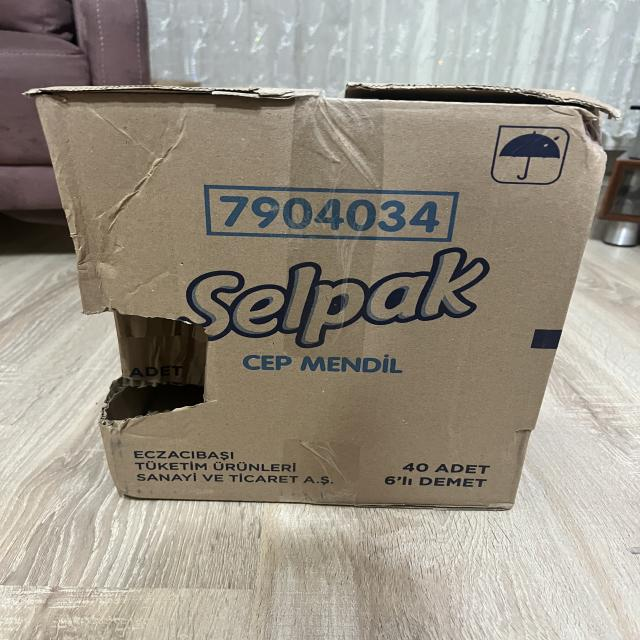damaged: (30, 83, 605, 517), (68, 278, 219, 441), (544, 72, 624, 175)
